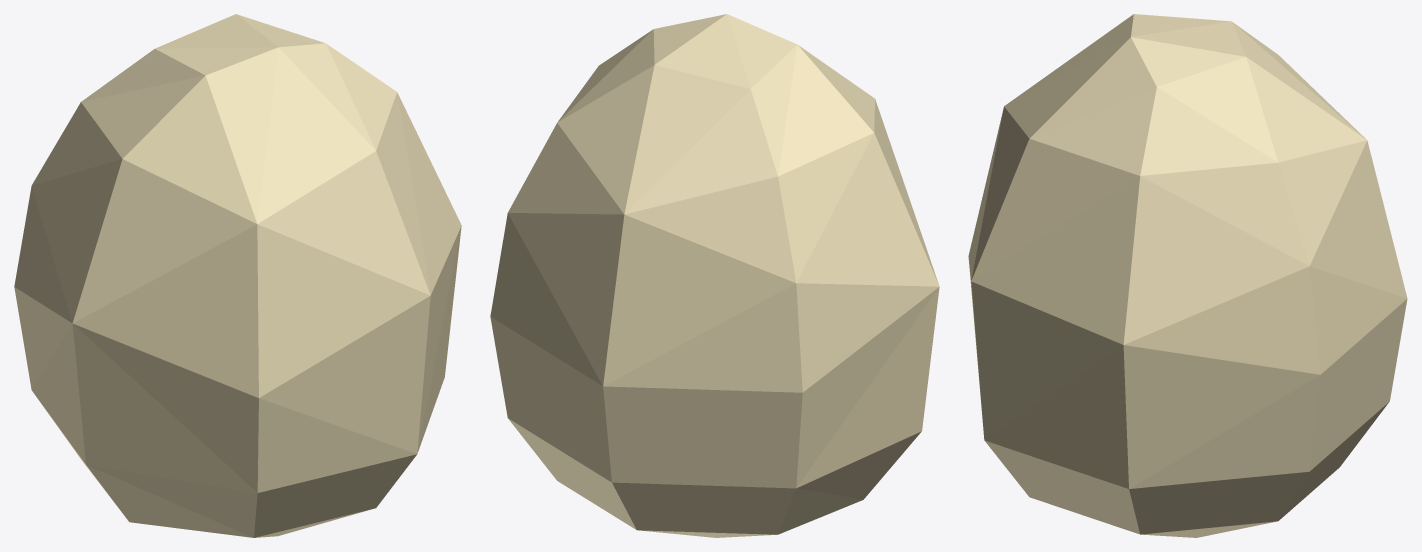
File: egg.fbx
3 views of the same model, side by side, from view 1: azimuth 30°, elevation 25°; view 2: azimuth 150°, elevation 25°; view 3: azimuth 270°, elevation 25° (orthographic).
Parts seen in each view (by area): view 1: Sphere.001; view 2: Sphere.001; view 3: Sphere.001.
Part boxes in pixels (left/top/right/bottom): Sphere.001: left=14, top=14, right=461, bottom=537; Sphere.001: left=490, top=14, right=939, bottom=537; Sphere.001: left=968, top=14, right=1407, bottom=537.
Bounding box in the file's own units: 0.0646 × 0.078 × 0.063.
Materials: 1 (1 with a texture image).
